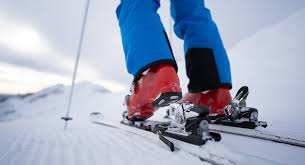skis: (87, 107, 305, 165)
